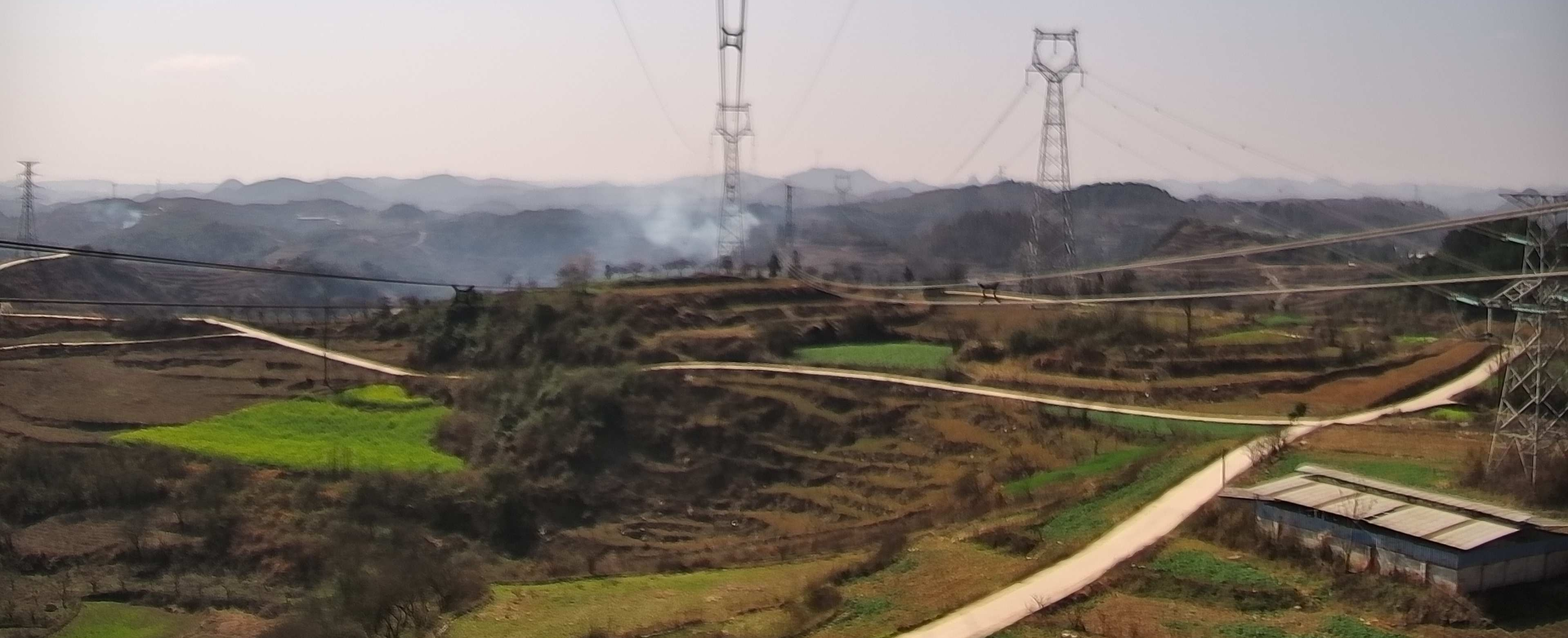烟雾: (0, 132, 1164, 327)
